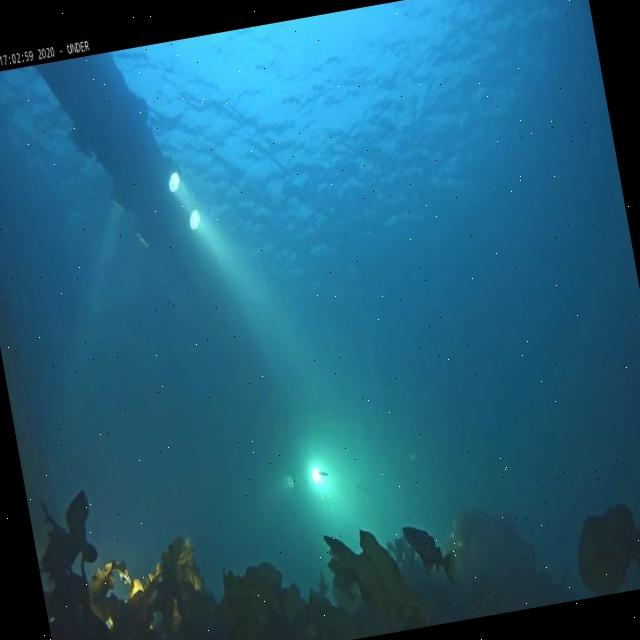fish: (402, 516, 458, 588)
